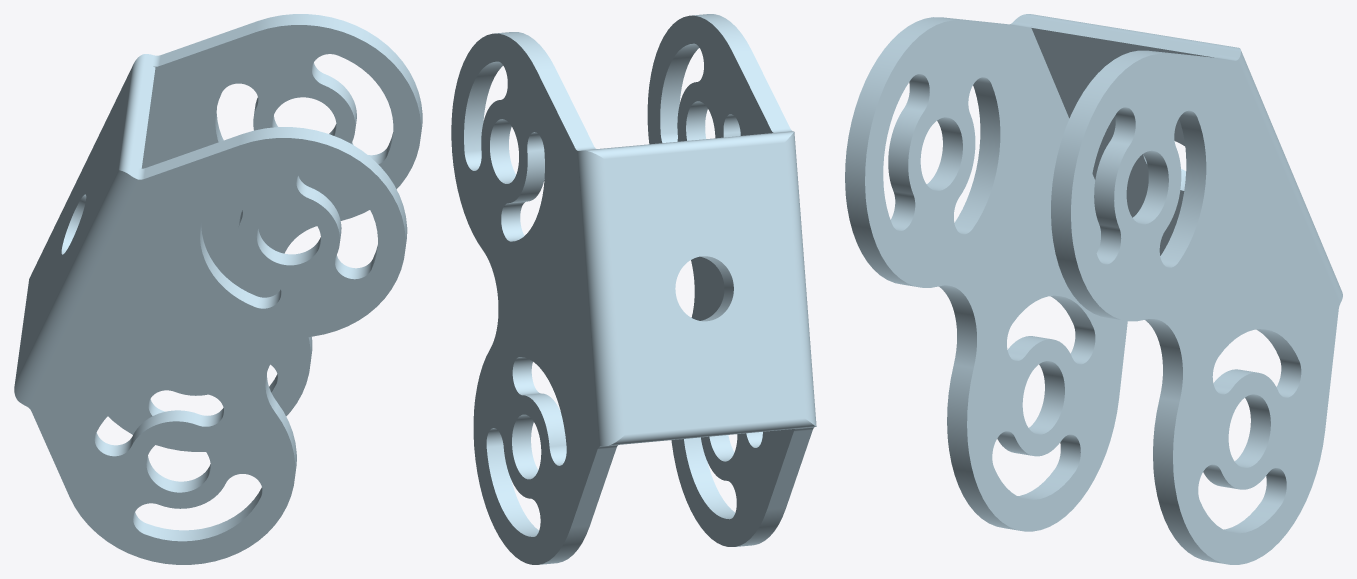
File: Robot_Master Copy 1 - Part 1 (16).gltf
3 views of the same model, side by side, from view 1: azimuth 30°, elevation 25°; view 2: azimuth 150°, elevation 25°; view 3: azimuth 270°, elevation 25° (orthographic). The views are drawn at different scales.
Parts seen in each view (by area): view 1: Part 1; view 2: Part 1; view 3: Part 1.
Boxes of the visible parts, box(x1,y1,x2,y2) form: Part 1: box(14, 14, 422, 564); Part 1: box(451, 14, 816, 564); Part 1: box(845, 14, 1342, 564).
Size of the model in its own units: 0.0754 by 0.0902 by 0.0737.
